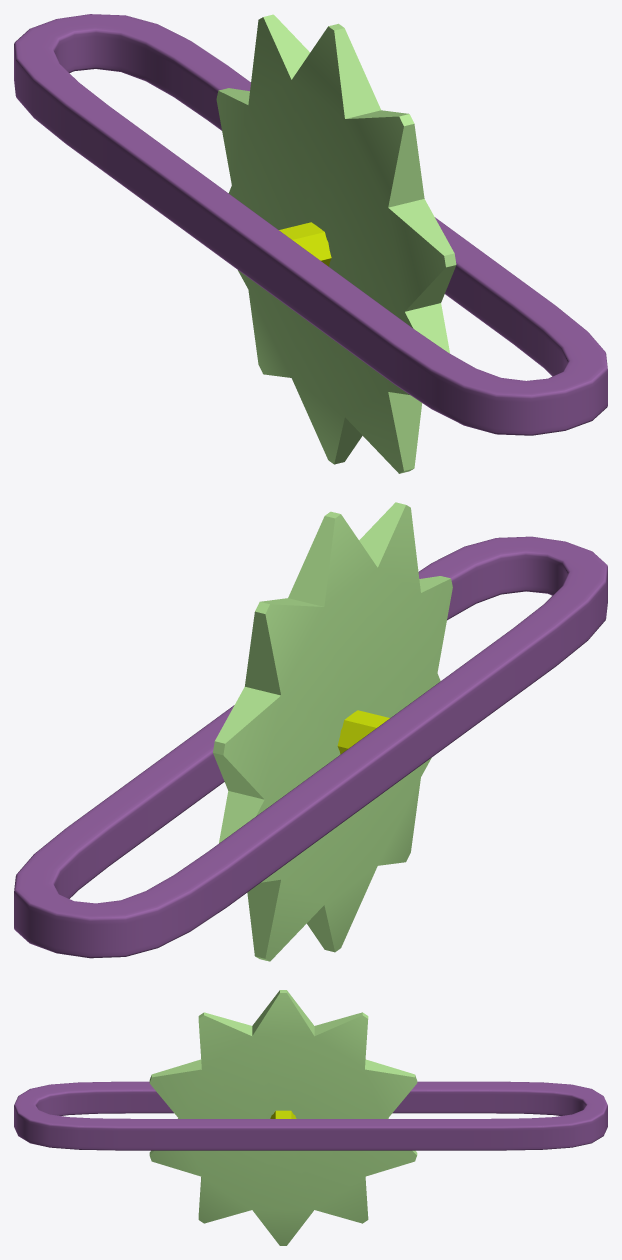
Rendered from engel_2.fbx.
3 renders of one model, top to bottom at view 1: azimuth 30°, elevation 25°; view 2: azimuth 150°, elevation 25°; view 3: azimuth 270°, elevation 25°, orthographic. The views are drawn at different scales.
Visible parts, largest first — view 1: pasted__pCube1, pasted__pCylinder1, pasted__pCylinder2; view 2: pasted__pCube1, pasted__pCylinder1, pasted__pCylinder2; view 3: pasted__pCylinder1, pasted__pCube1.
Part boxes in pixels (x1,y1,x2,y2): pasted__pCube1: [14, 14, 607, 435]; pasted__pCylinder1: [216, 14, 456, 473]; pasted__pCylinder2: [279, 222, 331, 266]; pasted__pCube1: [14, 536, 607, 958]; pasted__pCylinder1: [213, 502, 452, 961]; pasted__pCylinder2: [337, 710, 389, 754]; pasted__pCylinder1: [149, 990, 417, 1245]; pasted__pCube1: [14, 1081, 607, 1150].
Size of the model in its own units: 31.41 by 80.14 by 171.
